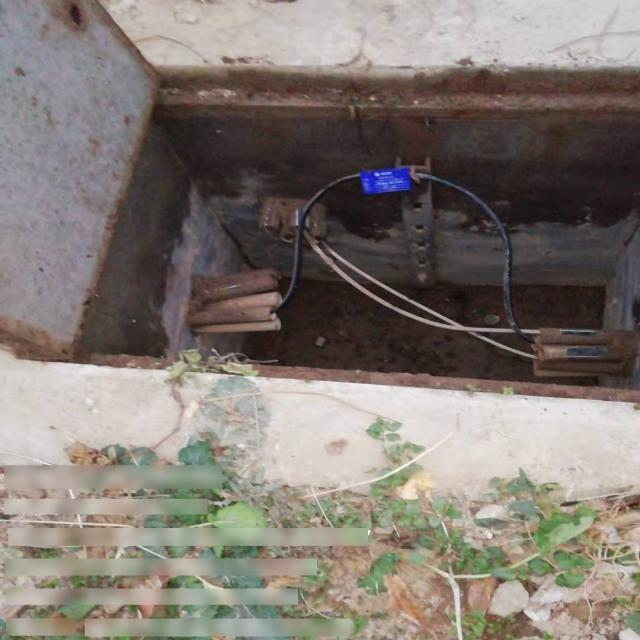Faulty: (5, 4, 640, 404)
